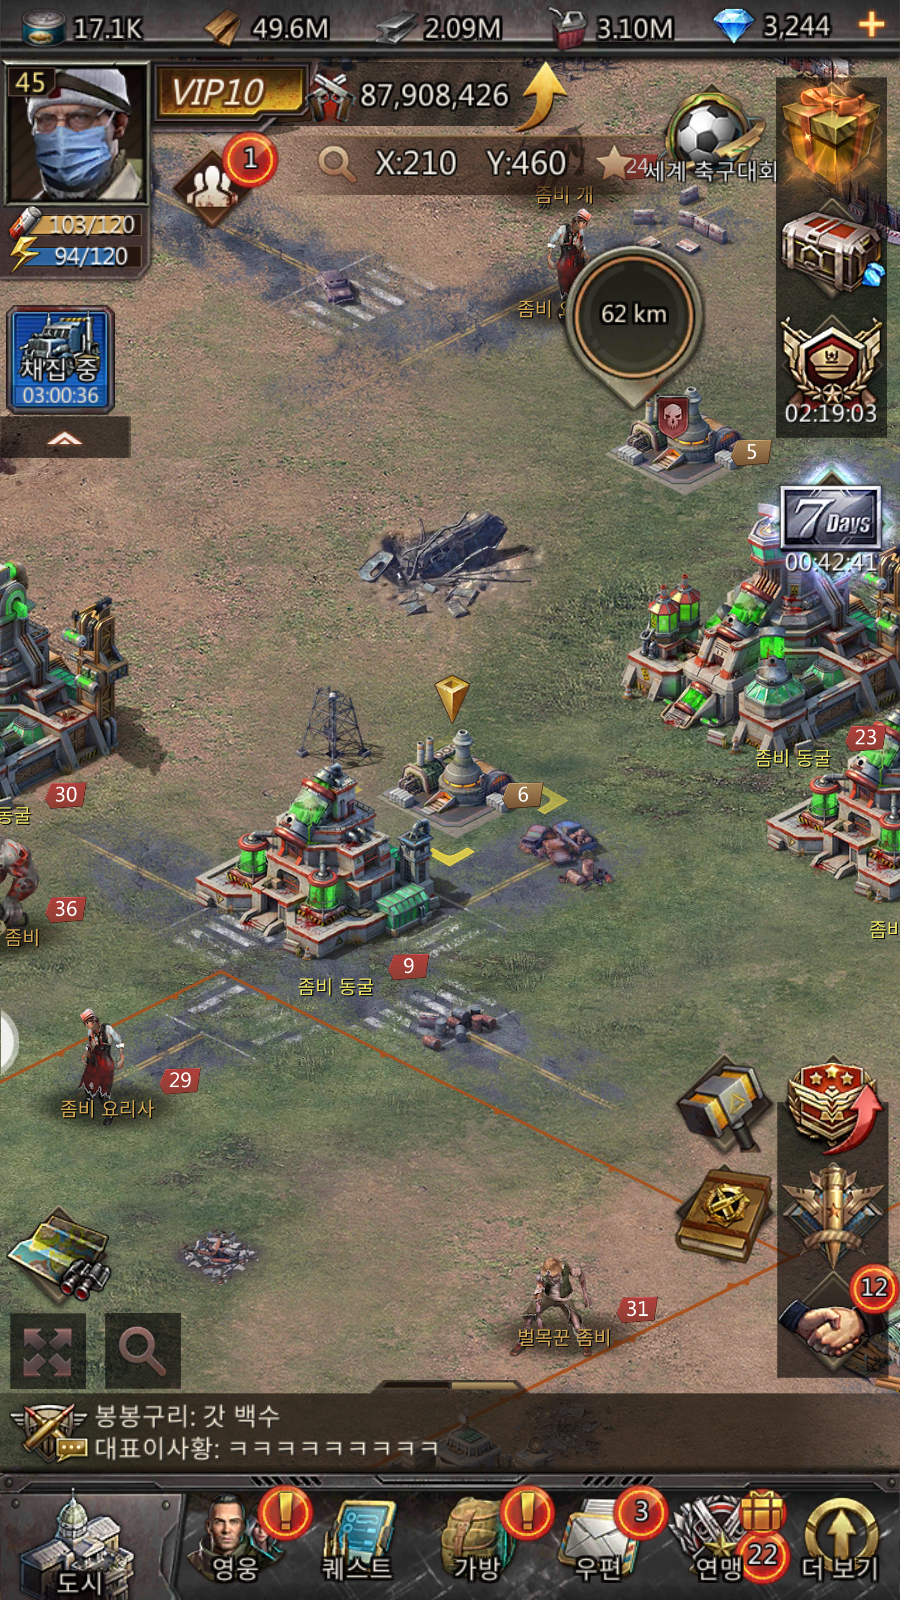city: (15, 1478, 190, 1600)
empty_steel: (320, 658, 585, 889)
open_panel: (98, 1302, 191, 1402)
troops_cnt_1: (156, 116, 285, 249)
